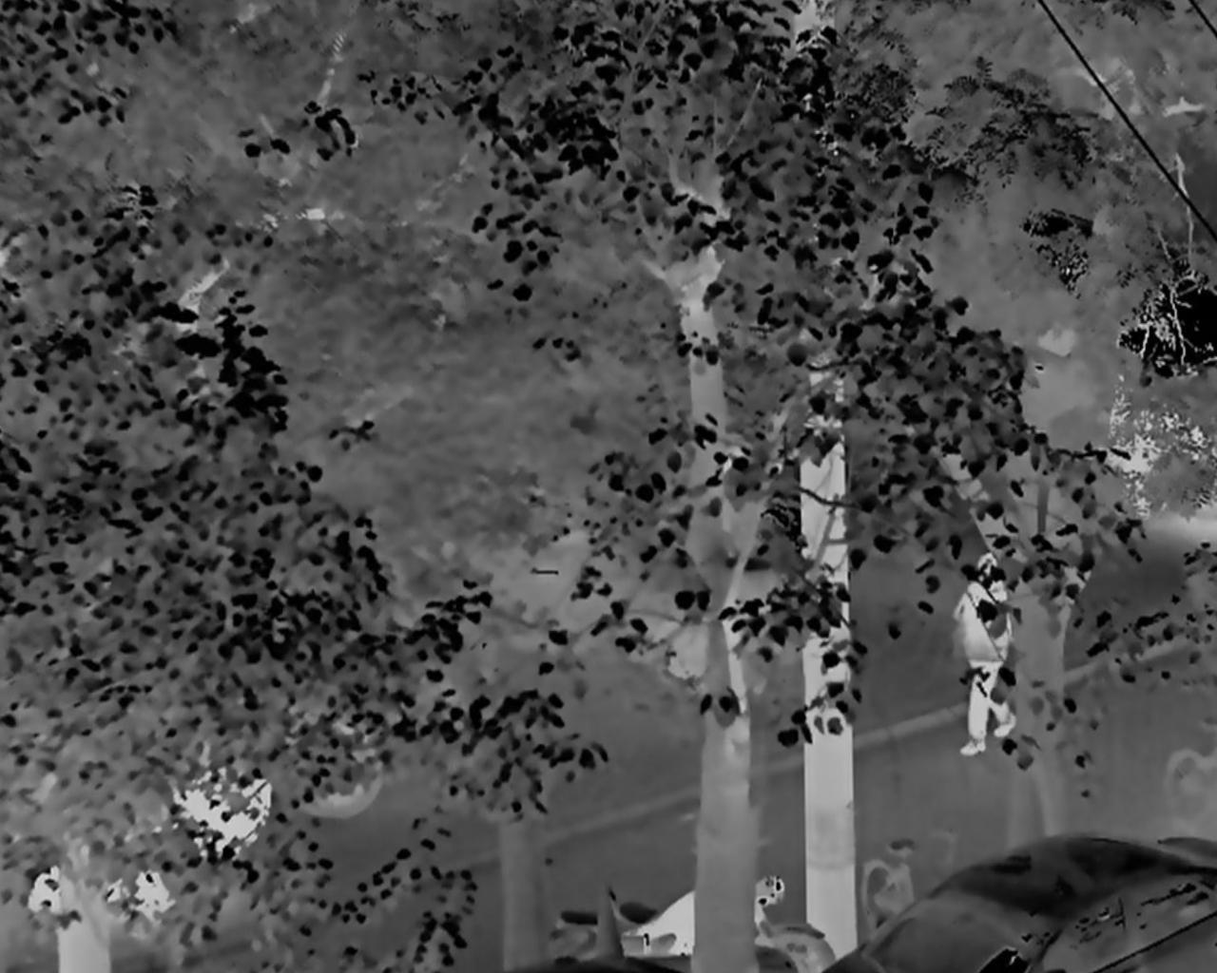person: (953, 553, 1017, 755)
